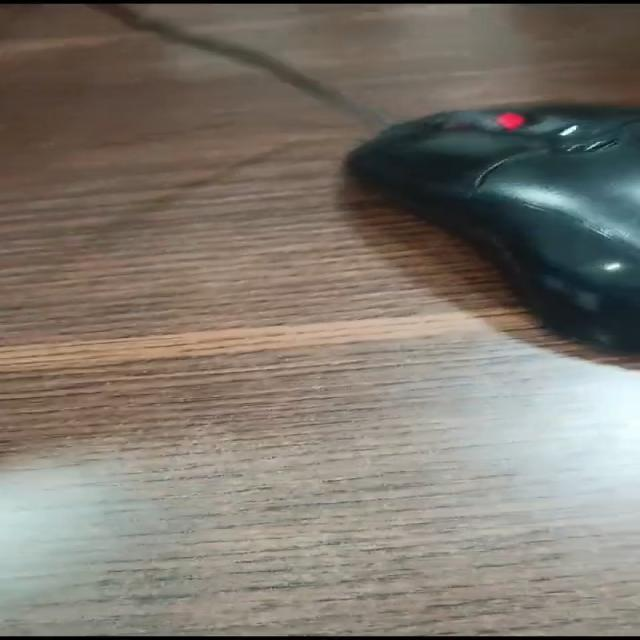Mouse: (198, 29, 640, 450)
